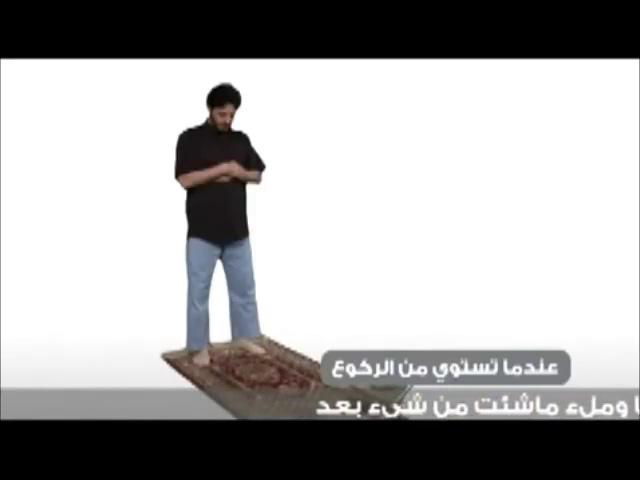qiyam: (175, 81, 265, 367)
